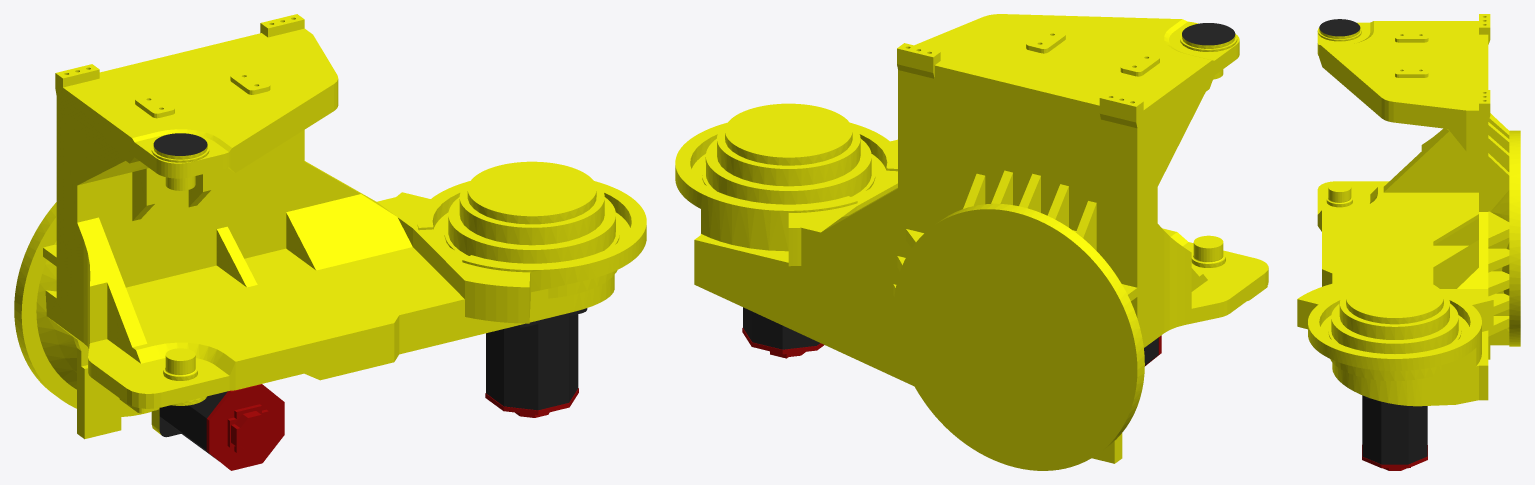
The picture shows the model from 3 angles, left to right: view 1: azimuth 30°, elevation 25°; view 2: azimuth 150°, elevation 25°; view 3: azimuth 270°, elevation 25°; orthographic projection. The views are drawn at different scales.
Parts seen in each view (by area): view 1: node; view 2: node; view 3: node.
Part boxes in pixels (left/top/right/bottom): node: left=14, top=14, right=646, bottom=470; node: left=675, top=14, right=1268, bottom=470; node: left=1297, top=14, right=1520, bottom=470.
Size of the model in its own units: 1252 by 863 by 588.
